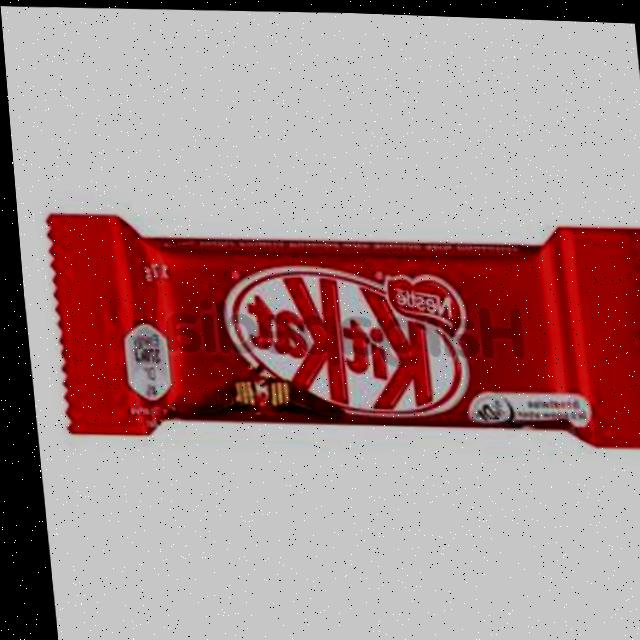kitkat: (43, 205, 640, 450)
